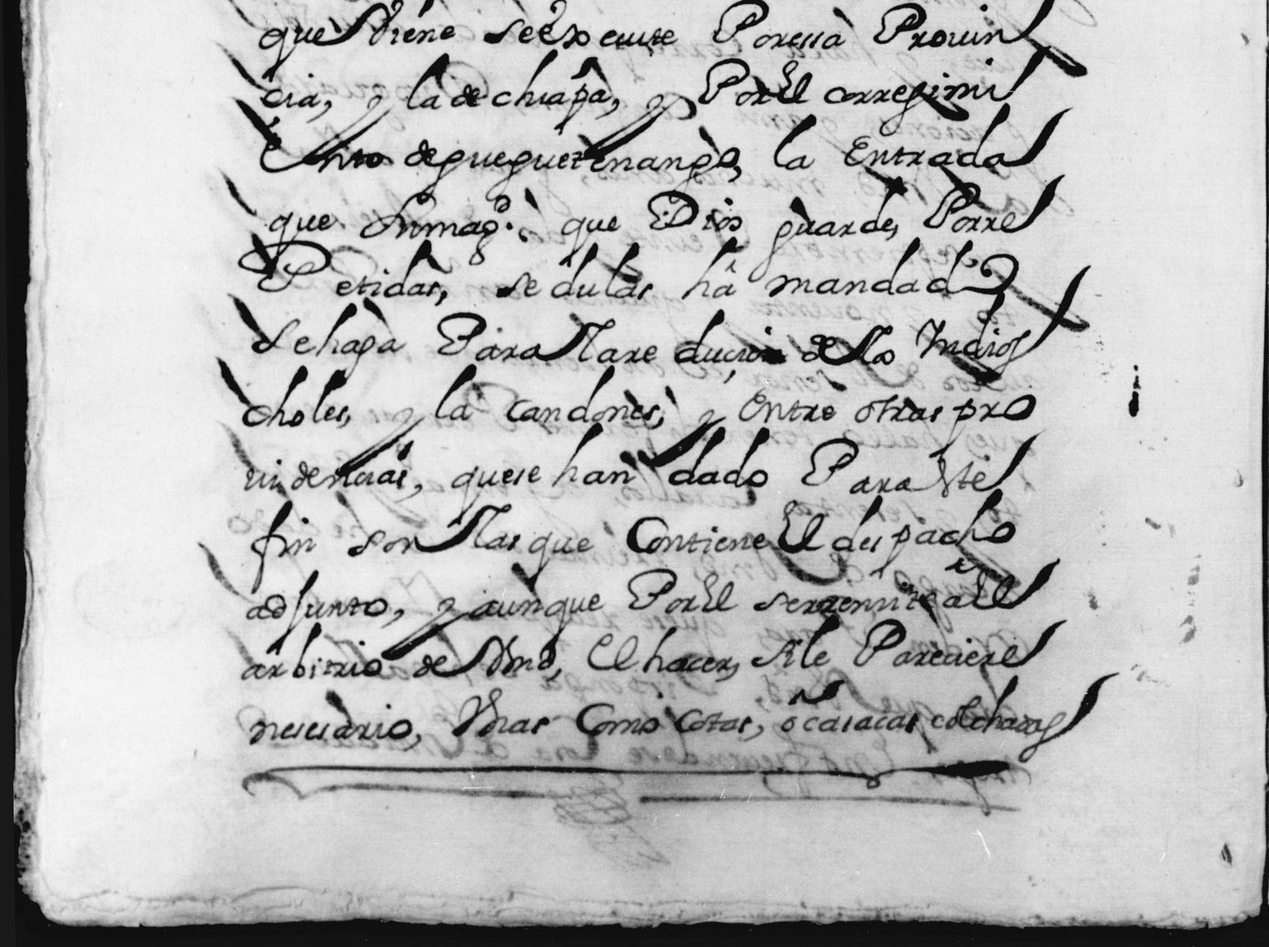lacandon: (435, 363, 660, 423)
